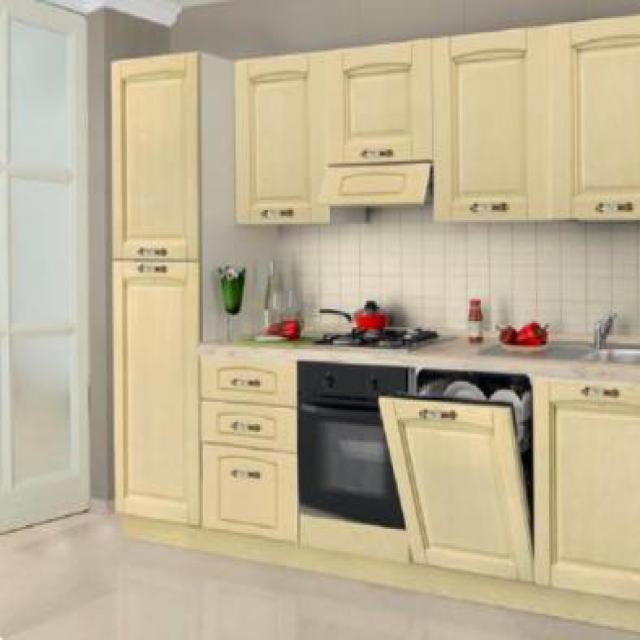dishwasher: (375, 360, 544, 596)
